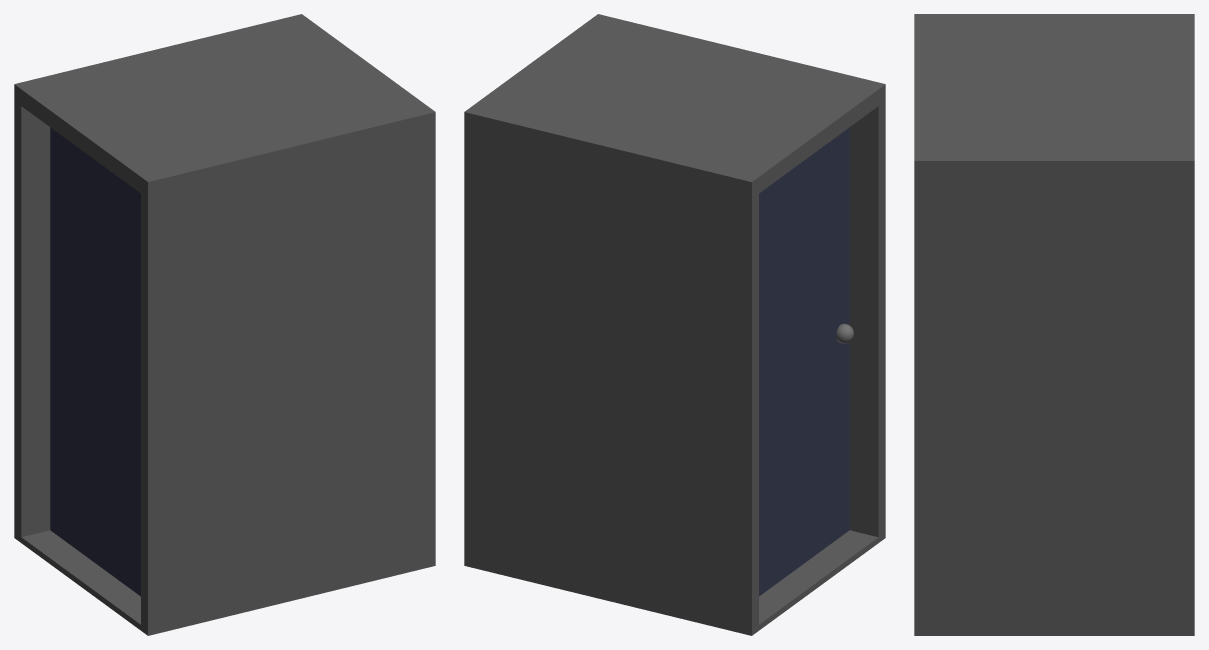
Rendered from Roofobj_6.fbx.
3 renders of one model, left to right at view 1: azimuth 30°, elevation 25°; view 2: azimuth 150°, elevation 25°; view 3: azimuth 270°, elevation 25°, orthographic. The views are drawn at different scales.
Parts seen in each view (by area): view 1: pCube13; view 2: pCube13; view 3: pCube13.
Boxes of the visible parts, bbox=[...] form: pCube13: bbox=[14, 14, 435, 635]; pCube13: bbox=[464, 14, 885, 635]; pCube13: bbox=[914, 14, 1194, 635].
Bounding box in the file's own units: 5.87 × 8.86 × 4.74.
